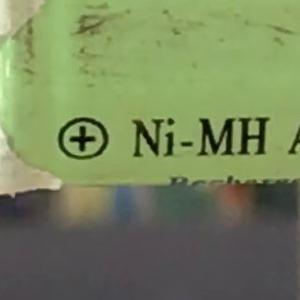keyword: (122, 107, 269, 167)
